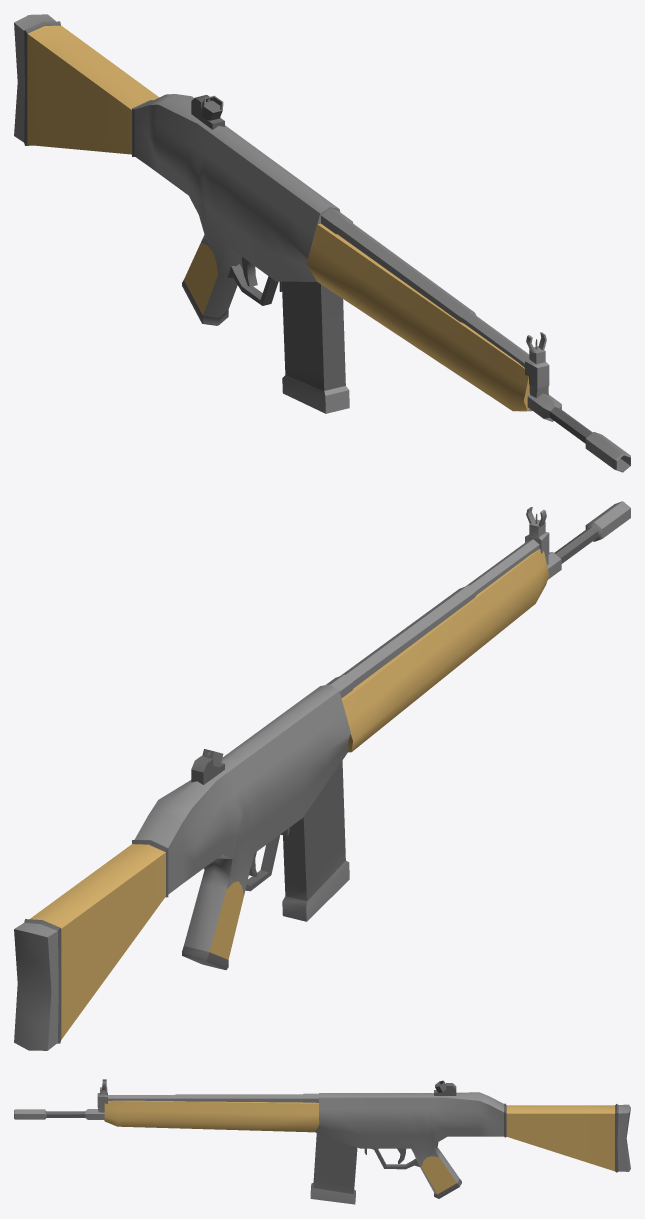
Rendered from 10-Desert-rifle.glb.
3 renders of one model, top to bottom at view 1: azimuth 30°, elevation 25°; view 2: azimuth 150°, elevation 25°; view 3: azimuth 270°, elevation 25°, orthographic. The views are drawn at different scales.
Parts seen in each view (by area): view 1: Desert rifle; view 2: Desert rifle; view 3: Desert rifle.
Part boxes in pixels (x1,y1,x2,y2): Desert rifle: (14,14,630,472); Desert rifle: (14,501,630,1050); Desert rifle: (14,1079,630,1204).
Size of the model in its own units: 0.0426 by 0.2027 by 0.94.
1 material, 1 textured.
